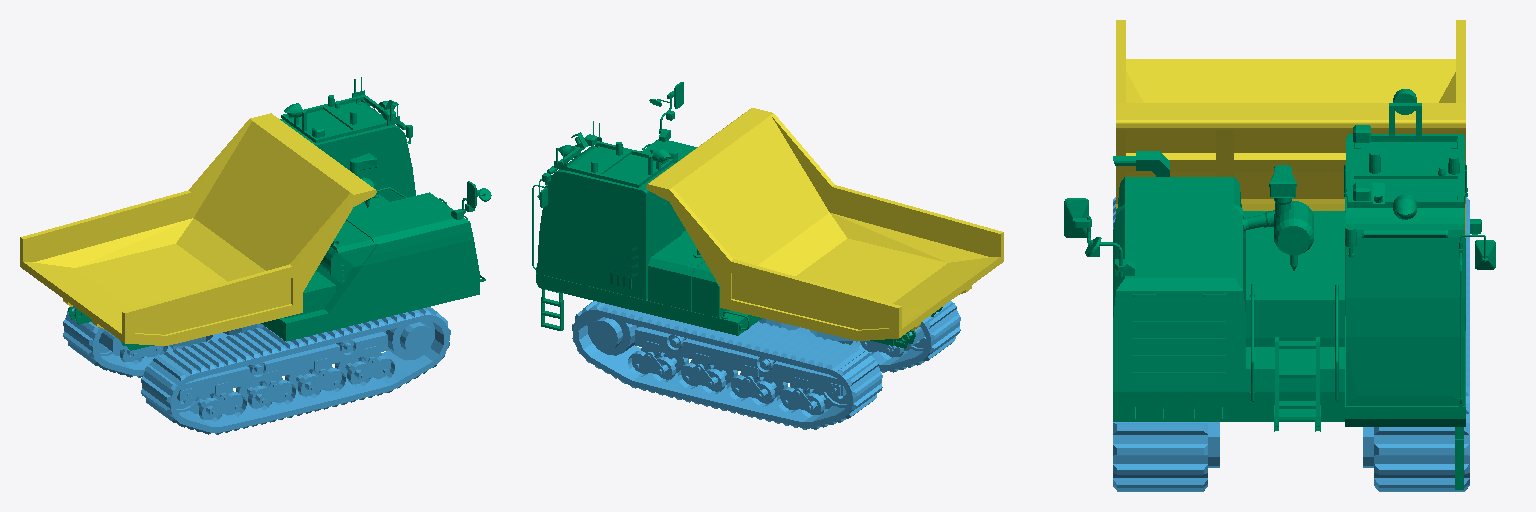
The robot description file, URDF, robot "mst110cr":
<?xml version="1.0" ?>
<!-- =================================================================================== -->
<!-- |    This document was autogenerated by xacro from mst110cr.xacro                 | -->
<!-- |    EDITING THIS FILE BY HAND IS NOT RECOMMENDED                                 | -->
<!-- =================================================================================== -->
<robot name="mst110cr">
  <!-- Base Link -->
  <link name="base_link"/>
  <!-- Track {{{ -->
  <joint name="base_joint" type="fixed">
    <parent link="base_link"/>
    <child link="track_link"/>
  </joint>
  <link name="track_link">
    <visual>
      <geometry>
        <mesh filename="package://mst110cr_description/meshes/mst110cr-crawler.dae"/>
      </geometry>
    </visual>
    <collision>
      <geometry>
        <mesh filename="package://mst110cr_description/meshes/mst110cr-crawler.dae"/>
      </geometry>
    </collision>
    <inertial>
      <origin rpy="0 0 0" xyz="0 0 0"/>
      <mass value="0.03"/>
      <inertia ixx="1.0" ixy="0.0" ixz="0.0" iyy="1.0" iyz="0.0" izz="1.0"/>
    </inertial>
  </link>
  <!-- }}} Track ends here -->
  <!-- Body {{{ -->
  <joint name="swing_joint" type="continuous">
    <origin xyz="0 0 1"/>
    <axis xyz="0 0 1"/>
    <parent link="track_link"/>
    <child link="body_link"/>
  </joint>
  <link name="body_link">
    <visual>
      <origin xyz="0 0 0"/>
      <geometry>
        <mesh filename="package://mst110cr_description/meshes/mst110cr-body.dae"/>
      </geometry>
    </visual>
    <collision>
      <origin xyz="0 0 0"/>
      <geometry>
        <mesh filename="package://mst110cr_description/meshes/mst110cr-body.dae"/>
      </geometry>
    </collision>
    <inertial>
      <origin rpy="0 0 0" xyz="0 0 0"/>
      <mass value="0.03"/>
      <inertia ixx="1.0" ixy="0.0" ixz="0.0" iyy="1.0" iyz="0.0" izz="1.0"/>
    </inertial>
  </link>
  <!-- }}} Body ends here -->
  <!-- Vessel {{{ -->
  <joint name="vessel_pin_joint" type="revolute">
    <origin xyz="-2.389 0 0.562"/>
    <axis xyz="0 1 0"/>
    <parent link="body_link"/>
    <child link="vessel_link"/>
    <limit effort="500" lower="-1.0471975511965976" upper="0.0" velocity="6.159937255"/>
  </joint>
  <link name="vessel_link">
    <visual>
      <origin xyz="0 0 0"/>
      <geometry>
        <mesh filename="package://mst110cr_description/meshes/mst110cr-vessel.dae"/>
      </geometry>
    </visual>
    <collision>
      <origin xyz="0 0 0"/>
      <geometry>
        <mesh filename="package://mst110cr_description/meshes/mst110cr-vessel.dae"/>
      </geometry>
    </collision>
    <inertial>
      <origin rpy="0 0 0" xyz="0 0 0"/>
      <mass value="0.03"/>
      <inertia ixx="1.0" ixy="0.0" ixz="0.0" iyy="1.0" iyz="0.0" izz="1.0"/>
    </inertial>
  </link>
  <!-- }}} Vessel ends here -->
  <!-- Vessel Cylinder {{{ -->
  <joint name="vessel_cylinder_joint" type="continuous">
    <origin xyz="-1.891 0 0.293" rpy="0 -0.2650299922 0"/>
    <axis xyz="0 1 0"/>
    <parent link="body_link"/>
    <child link="vessel_cylinder_link"/>
    <mimic joint="vessel_pin_joint" multiplier="1.1"/>
  </joint>
  <link name="vessel_cylinder_link">
    <visual>
      <origin xyz="0 0 0"/>
      <geometry>
        <mesh filename="package://mst110cr_description/meshes/mst110cr-vessel_cylinder.dae"/>
      </geometry>
    </visual>
    <collision>
      <origin xyz="0 0 0"/>
      <geometry>
        <mesh filename="package://mst110cr_description/meshes/mst110cr-vessel_cylinder.dae"/>
      </geometry>
    </collision>
    <inertial>
      <origin rpy="0 0 0" xyz="0 0 0"/>
      <mass value="0.03"/>
      <inertia ixx="1.0" ixy="0.0" ixz="0.0" iyy="1.0" iyz="0.0" izz="1.0"/>
    </inertial>
  </link>
  <!-- }}} Vessel Cylinder ends here -->
  <!-- Vessel Rod {{{ -->
  <joint name="vessel_rod_joint" type="prismatic">
    <origin xyz="0 0 0"/>
    <axis xyz="1.039 0 0.282"/>
    <parent link="vessel_cylinder_link"/>
    <child link="vessel_rod_link"/>
    <limit effort="500" lower="0" upper="0.6" velocity="6.159937255"/>
    <mimic joint="vessel_pin_joint" multiplier="-0.5729577951308232"/>
  </joint>
  <link name="vessel_rod_link">
    <visual>
      <origin xyz="0 0 0"/>
      <geometry>
        <mesh filename="package://mst110cr_description/meshes/mst110cr-vessel_rod.dae"/>
      </geometry>
    </visual>
    <collision>
      <origin xyz="0 0 0"/>
      <geometry>
        <mesh filename="package://mst110cr_description/meshes/mst110cr-vessel_rod.dae"/>
      </geometry>
    </collision>
    <inertial>
      <origin rpy="0 0 0" xyz="0 0 0"/>
      <mass value="0.03"/>
      <inertia ixx="1.0" ixy="0.0" ixz="0.0" iyy="1.0" iyz="0.0" izz="1.0"/>
    </inertial>
  </link>
  <!-- }}} Vessel Rod ends here -->
</robot>

--- What the picture shows (computed from the rendered views, not written in the file) ---
3 views of the same robot in one strip: view 1: azimuth 30°, elevation 25°; view 2: azimuth 150°, elevation 25°; view 3: azimuth 270°, elevation 25° (orthographic).
Model mst110cr with 6 links and 5 joints (1 revolute, 2 continuous, 1 prismatic, 1 fixed), rooted at base_link, posed all joints at 0.
Links seen in each view (by area): view 1: vessel_link, body_link, track_link; view 2: vessel_link, track_link, body_link; view 3: body_link, vessel_link, track_link.
Boxes of the visible links, <box> form: vessel_link: <box>20,113,376,345</box>; body_link: <box>68,77,491,350</box>; track_link: <box>63,307,450,434</box>; vessel_link: <box>646,108,1003,340</box>; track_link: <box>572,301,960,429</box>; body_link: <box>532,82,942,348</box>; body_link: <box>1064,89,1495,489</box>; vessel_link: <box>1116,20,1465,237</box>; track_link: <box>1113,197,1469,491</box>.
Bounding box of the posed robot: 5.99 × 3.6 × 3.52 m (x, y, z).
5 mesh visuals loaded from 5 distinct referenced files (5 Collada DAE).